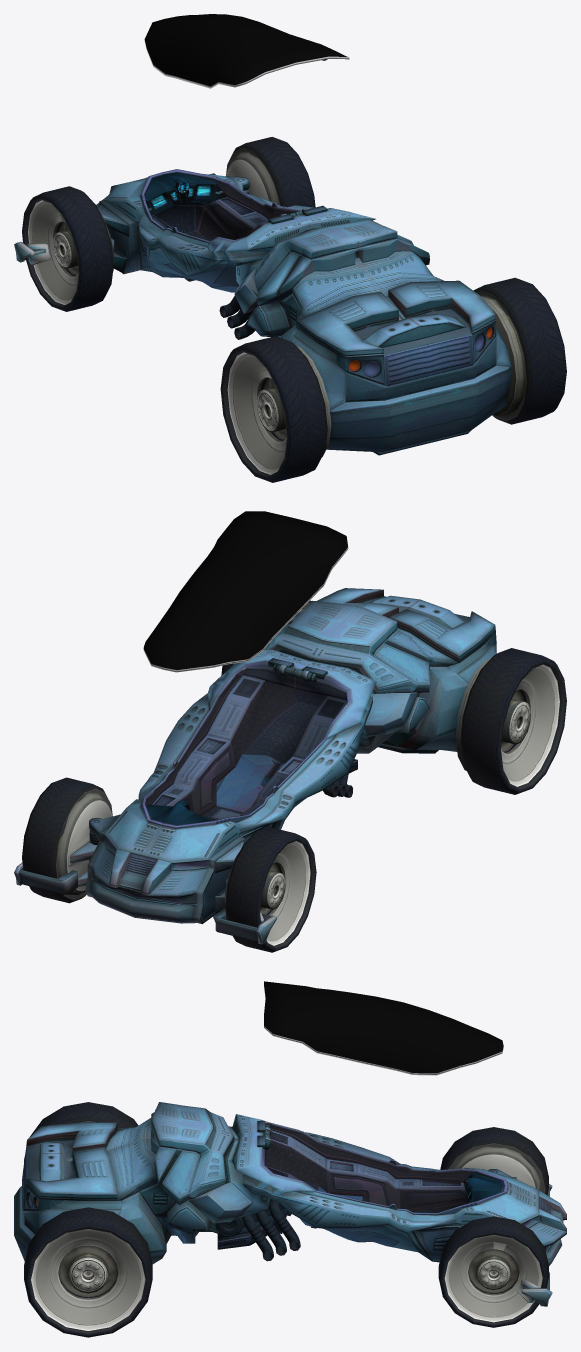
File: vehicleMain.fbx
3 renders of one model, top to bottom at view 1: azimuth 30°, elevation 25°; view 2: azimuth 150°, elevation 25°; view 3: azimuth 270°, elevation 25°, orthographic. The views are drawn at different scales.
Visible parts, largest first — view 1: polySurface37, Vehicle01:Back_Wheel_Mesh_1_L, Vehicle01:Car_Glas_Mesh, Vehicle01:Front_Wheel_Mesh_2_L, Vehicle01:Back_Wheel_Mesh_1_R, Vehicle01:Front_Steering_Mesh_2_R, polySurface36, Vehicle01:Back_Suspension_R, Vehicle01:Front_Wheel_Mesh_1_R, Vehicle01:Front_Steering_Mesh_1_L; view 2: polySurface37, Vehicle01:Car_Glas_Mesh, Vehicle01:Back_Wheel_Mesh_1_L, Vehicle01:Front_Wheel_Mesh_2_L, Vehicle01:Front_Steering_Mesh_2_R, Vehicle01:Front_Wheel_Mesh_1_R, Vehicle01:Front_Steering_Mesh_1_L, polySurface36, Vehicle01:Back_Suspension_L; view 3: polySurface37, Vehicle01:Car_Glas_Mesh, Vehicle01:Back_Wheel_Mesh_1_R, Vehicle01:Front_Steering_Mesh_2_R, Vehicle01:Front_Wheel_Mesh_2_L, Vehicle01:Front_Steering_Mesh_1_L, Vehicle01:Back_Wheel_Mesh_1_L, polySurface36, polySurface31, Vehicle01:Front_Wheel_Mesh_1_R, polySurface33, polySurface32.
Part boxes in pixels (x1,y1,x2,y2): polySurface37: (96, 169, 511, 455); Vehicle01:Back_Wheel_Mesh_1_L: (220, 336, 327, 482); Vehicle01:Car_Glas_Mesh: (144, 14, 349, 88); Vehicle01:Front_Wheel_Mesh_2_L: (22, 186, 113, 311); Vehicle01:Back_Wheel_Mesh_1_R: (473, 277, 566, 424); Vehicle01:Front_Steering_Mesh_2_R: (226, 137, 315, 207); polySurface36: (145, 172, 226, 215); Vehicle01:Back_Suspension_R: (481, 295, 525, 416); Vehicle01:Front_Wheel_Mesh_1_R: (226, 152, 279, 205); Vehicle01:Front_Steering_Mesh_1_L: (14, 211, 114, 271); polySurface37: (85, 588, 496, 924); Vehicle01:Car_Glas_Mesh: (143, 511, 348, 672); Vehicle01:Back_Wheel_Mesh_1_L: (460, 648, 566, 794); Vehicle01:Front_Wheel_Mesh_2_L: (225, 827, 316, 952); Vehicle01:Front_Steering_Mesh_2_R: (22, 777, 112, 903); Vehicle01:Front_Wheel_Mesh_1_R: (14, 793, 112, 894); Vehicle01:Front_Steering_Mesh_1_L: (213, 851, 276, 944); polySurface36: (146, 800, 213, 825); Vehicle01:Back_Suspension_L: (455, 658, 490, 770); polySurface37: (14, 1102, 566, 1265); Vehicle01:Car_Glas_Mesh: (264, 981, 503, 1075); Vehicle01:Back_Wheel_Mesh_1_R: (24, 1207, 152, 1337); Vehicle01:Front_Steering_Mesh_2_R: (438, 1216, 548, 1327); Vehicle01:Front_Wheel_Mesh_2_L: (440, 1127, 548, 1195); Vehicle01:Front_Steering_Mesh_1_L: (452, 1147, 552, 1196); Vehicle01:Back_Wheel_Mesh_1_L: (24, 1102, 138, 1161); polySurface36: (464, 1173, 502, 1203); polySurface31: (269, 1200, 300, 1250); Vehicle01:Front_Wheel_Mesh_1_R: (516, 1272, 552, 1306); polySurface33: (242, 1214, 273, 1261); polySurface32: (255, 1210, 286, 1255).
Bounding box in the file's own units: 144 × 153 × 274.
